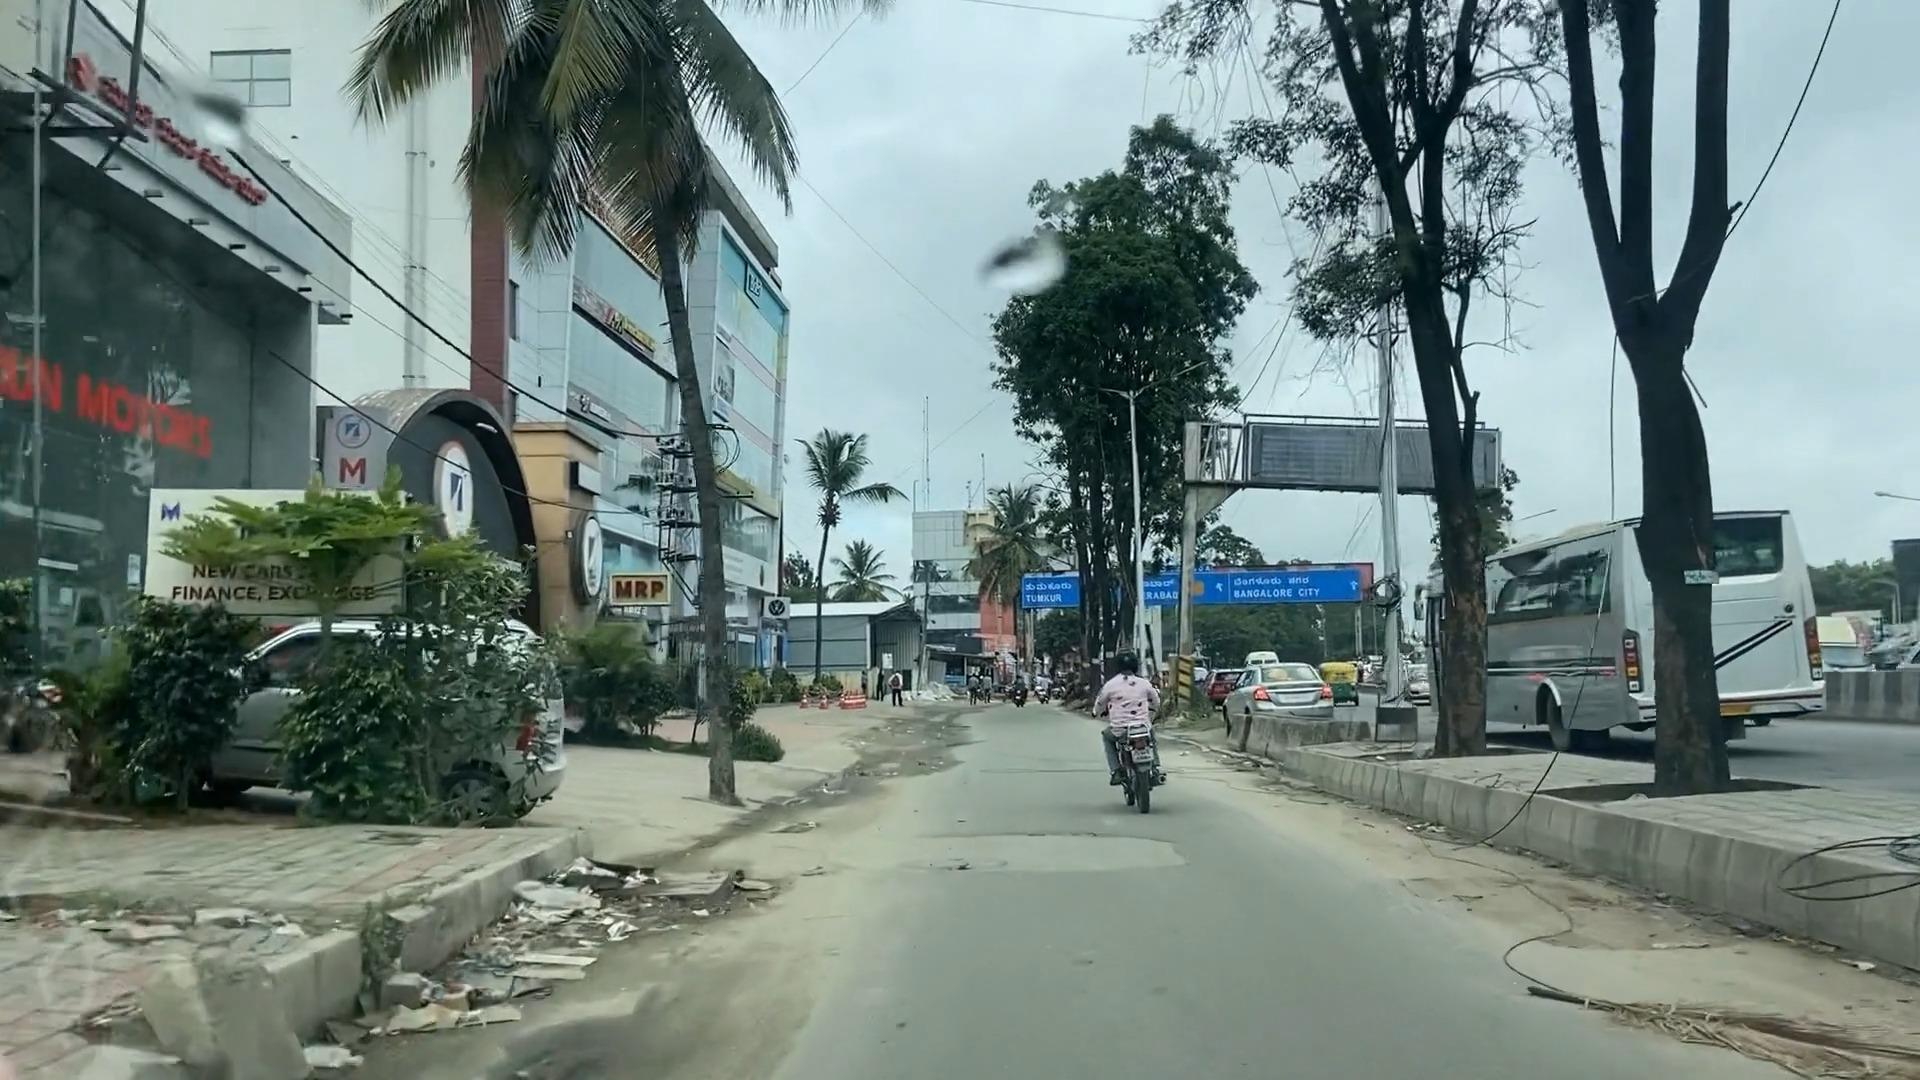LMV: (1097, 646, 1172, 819)
RoadDamages: (1510, 927, 1865, 1080), (491, 827, 783, 978), (884, 807, 1221, 930)
